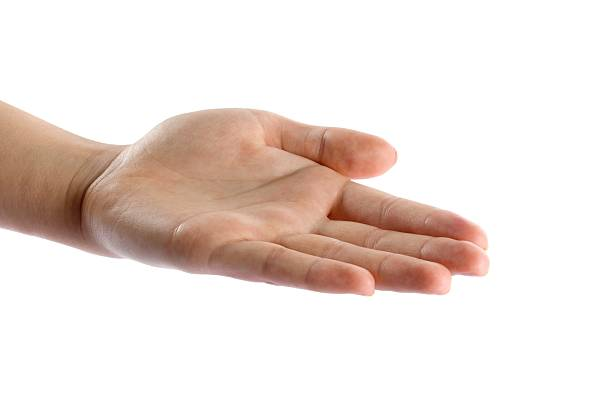hand: (77, 95, 512, 326)
